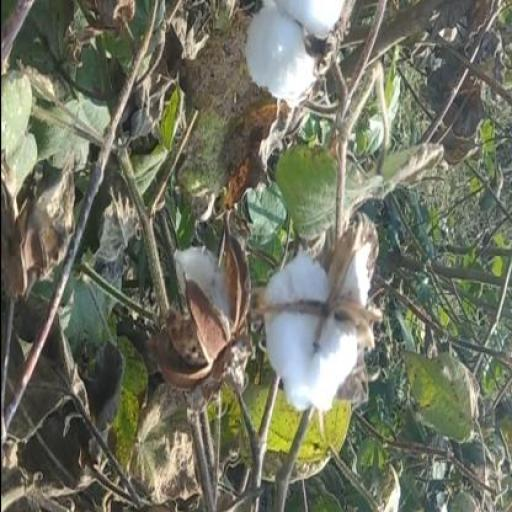cotton_ready: (236, 250, 389, 424)
